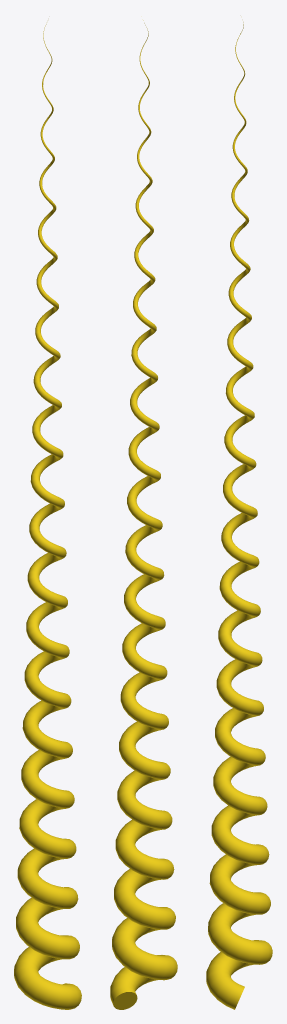
File: spiral_extended_three.fbx
3 views of the same model, side by side, from view 1: azimuth 30°, elevation 25°; view 2: azimuth 210°, elevation 25°; view 3: azimuth 270°, elevation 25° (orthographic).
Parts seen in each view (by area): view 1: Spiral.004; view 2: Spiral.004; view 3: Spiral.004.
Part boxes in pixels (x1,y1,x2,y2): Spiral.004: (14,24,81,1009); Spiral.004: (110,20,177,1009); Spiral.004: (206,22,272,1009).
Bounding box in the file's own units: 187 × 2983 × 182.
